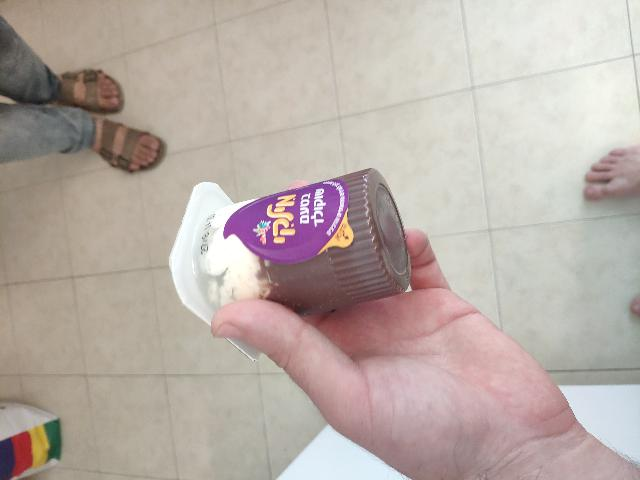milky: (179, 180, 420, 337)
